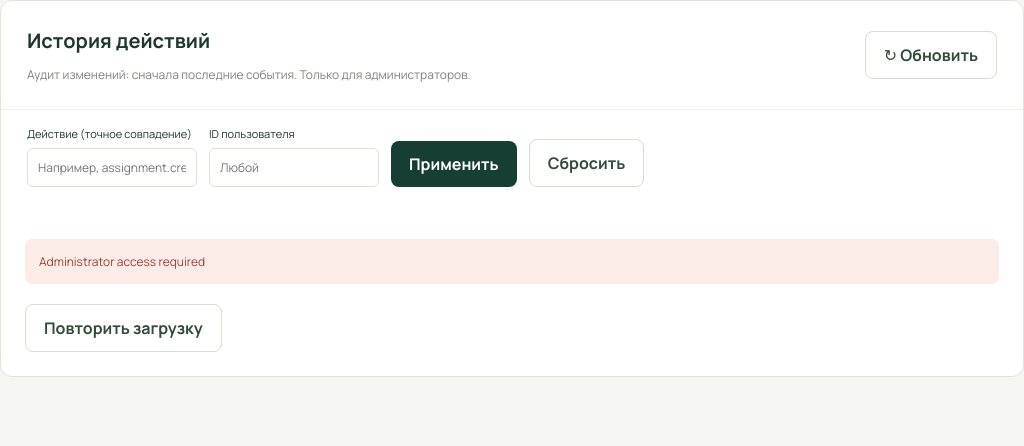
Test: audit › shows loading and a retryable permission error without stale rows
The width and height of the screenshot is (1024, 446).
Later steps or results of the test are not shown.
Expected: the message reads "Administrator access required", [39, 253, 205, 270]
Click the button "Повторить загрузку" at (123, 328), box [25, 304, 222, 352]
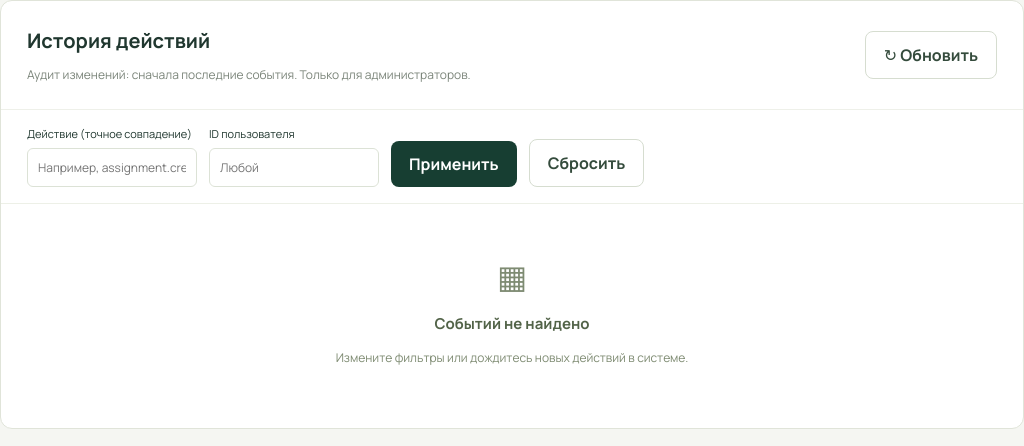
Now the heading "Событий не найдено" is shown, box [434, 313, 590, 334]
